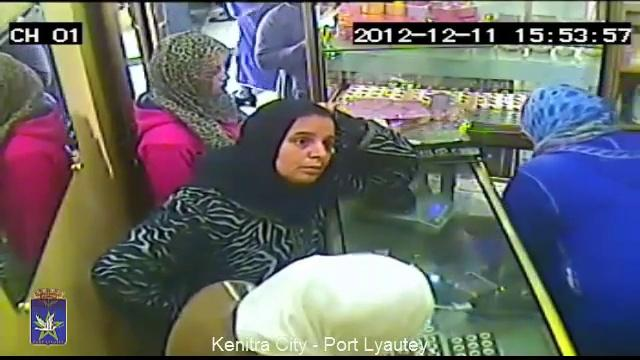3: (504, 65, 640, 344), (193, 229, 410, 360), (130, 23, 242, 172), (213, 91, 344, 213)
persone: (334, 107, 418, 184)
